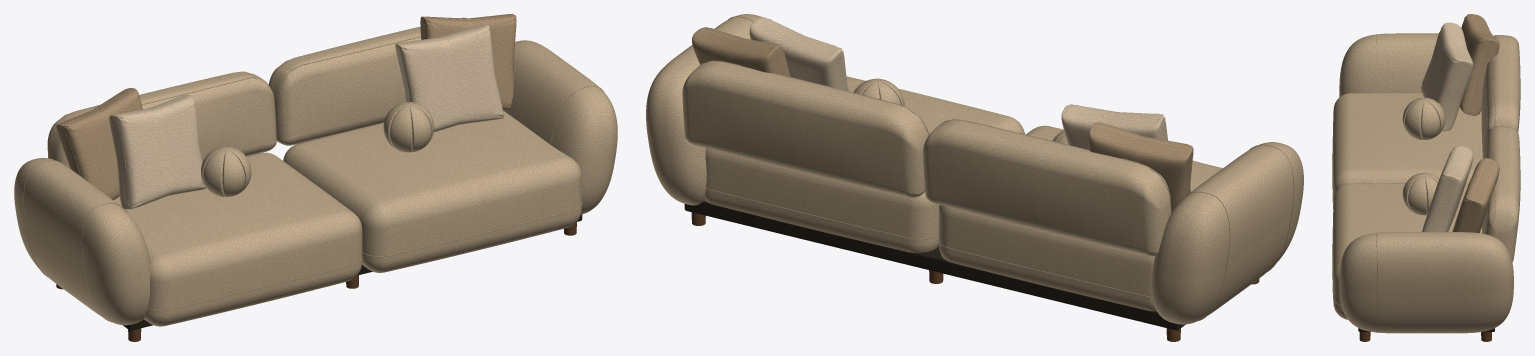
Rendered from straight.glb.
3 views of the same model, side by side, from view 1: azimuth 30°, elevation 25°; view 2: azimuth 150°, elevation 25°; view 3: azimuth 270°, elevation 25° (orthographic). The views are drawn at different scales.
Visible parts, largest first — view 1: fabric, pillows (×3), trim; view 2: fabric, pillows (×3), trim (×2), legs; view 3: fabric, pillows (×3), trim, accent, legs.
Part boxes in pixels (x1=…): fabric: x1=14, y1=17, x2=617, y2=326; pillows (×3): x1=56, y1=14, x2=516, y2=209; trim: x1=23, y1=36, x2=603, y2=322; fabric: x1=646, y1=14, x2=1303, y2=324; pillows (×3): x1=692, y1=17, x2=1193, y2=211; trim (×2): x1=684, y1=16, x2=1293, y2=330; legs: x1=691, y1=212, x2=1259, y2=341; fabric: x1=1332, y1=33, x2=1520, y2=333; pillows (×3): x1=1402, y1=14, x2=1499, y2=232; trim: x1=1332, y1=34, x2=1496, y2=332; accent: x1=1404, y1=14, x2=1488, y2=231; legs: x1=1359, y1=332, x2=1491, y2=341.
Bounding box in the file's own units: 3 × 0.9785 × 1.1.
Materials: 7 (3 with a texture image).
